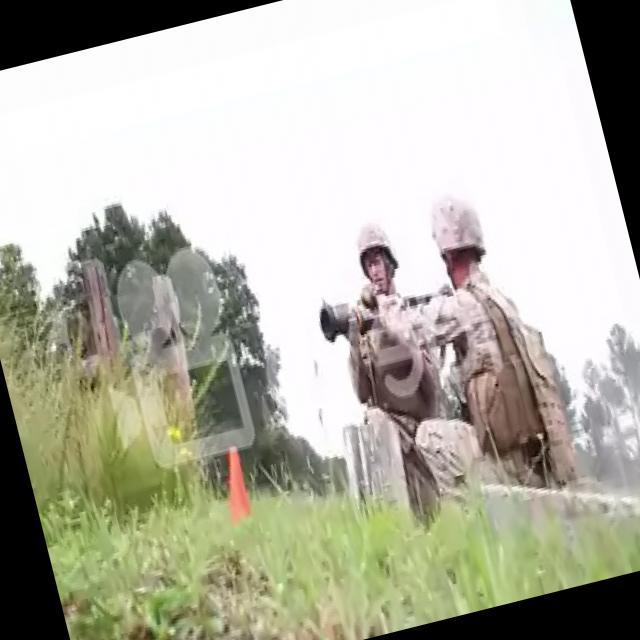rocket: (314, 297, 376, 344)
